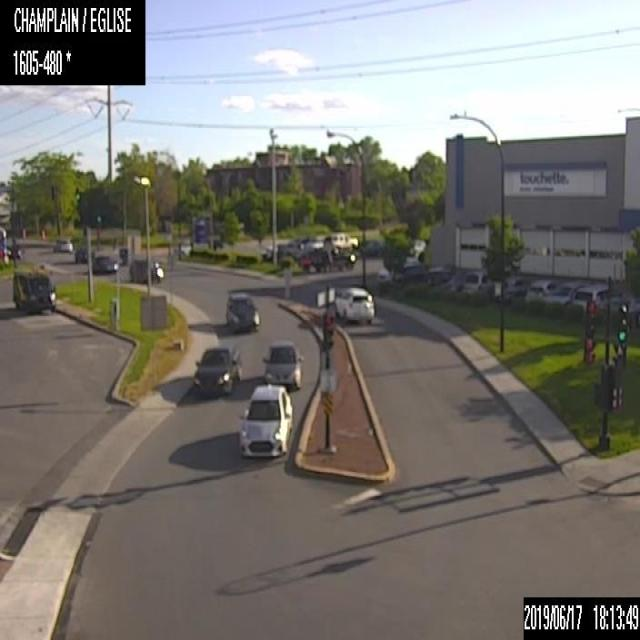vehicle: (238, 382, 292, 458), (190, 341, 240, 396), (262, 339, 304, 387), (12, 269, 55, 312), (334, 284, 374, 325), (301, 243, 355, 272), (226, 291, 260, 332), (376, 256, 419, 286), (571, 282, 607, 312), (546, 280, 589, 304), (487, 274, 526, 299), (130, 257, 162, 282), (391, 264, 424, 286), (463, 269, 493, 293), (524, 279, 556, 301), (609, 290, 639, 312), (322, 230, 358, 247), (420, 264, 450, 284), (277, 241, 308, 260), (440, 270, 466, 291), (92, 253, 117, 274), (359, 239, 384, 255), (74, 245, 94, 262), (54, 237, 72, 253), (7, 242, 21, 260)
